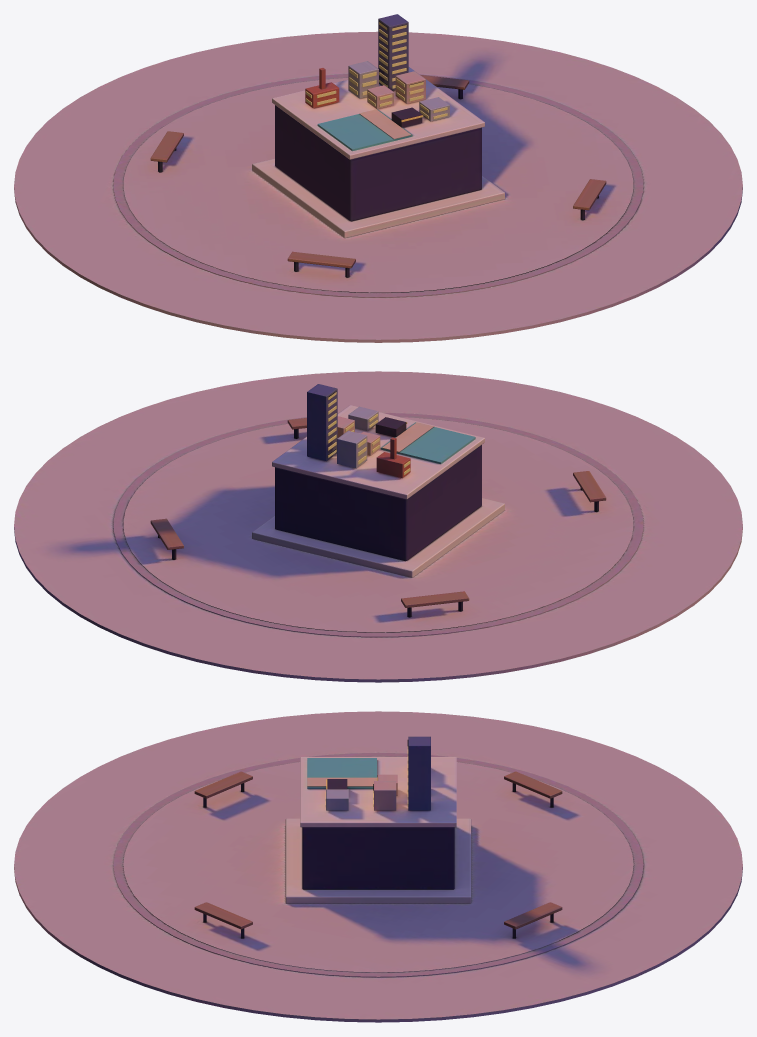
File: square.glb
The picture shows the model from 3 angles, top to bottom: view 1: azimuth 30°, elevation 25°; view 2: azimuth 150°, elevation 25°; view 3: azimuth 270°, elevation 25°; orthographic projection.
Visible parts, largest first — view 1: square; view 2: square; view 3: square.
Part boxes in pixels (box(x1,y1,x2,y2)): square: box(14, 14, 742, 342); square: box(14, 371, 742, 682); square: box(14, 711, 742, 1022).
Bounding box in the file's own units: 11 × 2.41 × 11.
1 material, 1 textured.
